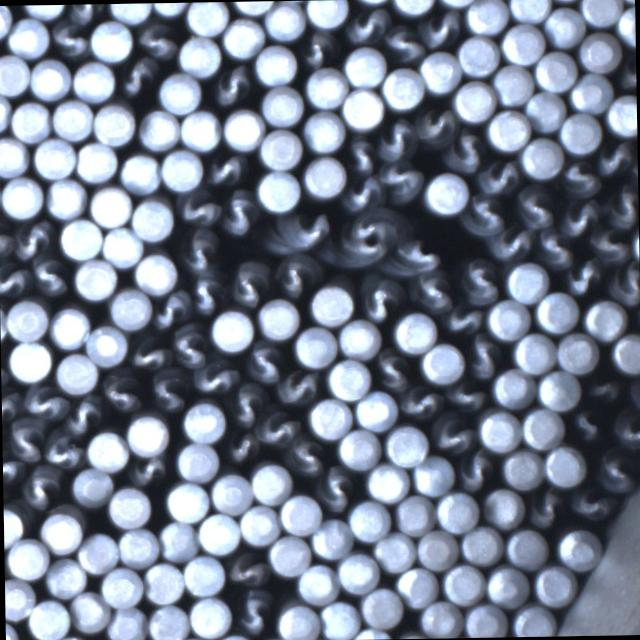tool: (393, 309, 438, 352), (424, 172, 470, 214), (211, 309, 255, 352), (91, 102, 135, 145), (556, 527, 600, 570), (306, 396, 351, 438), (499, 21, 544, 63), (88, 18, 131, 61), (434, 490, 478, 532), (88, 184, 132, 226), (106, 486, 150, 528), (512, 332, 556, 374), (310, 284, 354, 326), (536, 290, 580, 332), (256, 168, 300, 210), (484, 566, 528, 608), (384, 425, 428, 467), (72, 59, 116, 101), (486, 108, 530, 150), (40, 510, 84, 552), (294, 325, 338, 367), (326, 357, 371, 398), (1, 176, 44, 218), (160, 148, 202, 191), (157, 72, 200, 114), (29, 56, 72, 98), (477, 410, 520, 452), (61, 218, 104, 260), (126, 412, 169, 454), (506, 260, 549, 302), (536, 368, 580, 409), (34, 138, 78, 179), (164, 480, 208, 521), (8, 339, 52, 380), (520, 406, 564, 447), (74, 258, 118, 299), (383, 67, 425, 109), (52, 100, 94, 142), (142, 560, 184, 602), (120, 151, 162, 193), (348, 498, 390, 540), (258, 296, 300, 338), (130, 198, 172, 240), (111, 288, 153, 330), (342, 86, 384, 128), (544, 443, 586, 485), (188, 595, 230, 637), (442, 562, 484, 604), (534, 565, 576, 607), (86, 324, 128, 366), (7, 298, 49, 340), (556, 330, 598, 372), (182, 553, 225, 594), (421, 49, 462, 92), (85, 430, 128, 471), (254, 43, 297, 84), (354, 390, 397, 431), (177, 34, 220, 75), (581, 300, 624, 341), (222, 108, 263, 150), (196, 512, 238, 553), (560, 111, 602, 152), (56, 351, 98, 392), (302, 155, 344, 196), (78, 530, 120, 571), (27, 599, 69, 640), (362, 588, 404, 629), (262, 84, 304, 125), (304, 68, 346, 109), (210, 472, 252, 513), (134, 253, 176, 294), (50, 306, 91, 348), (488, 298, 530, 339), (268, 533, 310, 574), (506, 526, 548, 567), (502, 447, 544, 488), (182, 401, 224, 442), (482, 486, 523, 528), (421, 342, 464, 382), (458, 35, 501, 75), (453, 80, 496, 120), (138, 110, 181, 150), (338, 551, 379, 592), (491, 367, 532, 408), (310, 517, 352, 557), (518, 138, 560, 178), (7, 538, 49, 578), (278, 494, 320, 534), (100, 565, 142, 605), (338, 319, 380, 359), (535, 50, 577, 90), (7, 16, 49, 56), (296, 564, 338, 604), (415, 530, 457, 570), (222, 16, 264, 56), (338, 430, 380, 470), (10, 98, 50, 140), (411, 456, 453, 496), (45, 178, 87, 218), (570, 72, 612, 112), (260, 127, 302, 167), (494, 64, 534, 106), (176, 442, 218, 482), (396, 566, 438, 606), (343, 47, 385, 87), (46, 556, 88, 596), (70, 468, 112, 508), (372, 532, 414, 572), (158, 518, 198, 560), (365, 463, 408, 502), (119, 525, 160, 565), (102, 226, 143, 266), (181, 110, 222, 150), (253, 462, 293, 503), (304, 111, 344, 152), (78, 140, 119, 180), (544, 6, 584, 47), (526, 90, 566, 131), (276, 602, 319, 640), (239, 504, 279, 544), (318, 600, 358, 640), (394, 495, 433, 536), (579, 33, 620, 72), (459, 524, 501, 562), (70, 590, 108, 632), (420, 601, 462, 638), (510, 604, 556, 637), (464, 603, 508, 637), (265, 1, 305, 38), (464, 0, 508, 33), (149, 604, 189, 640), (4, 576, 36, 619), (106, 606, 146, 640), (187, 2, 229, 34), (606, 92, 637, 134), (0, 53, 29, 95), (610, 331, 640, 371), (0, 135, 28, 176), (305, 0, 347, 27), (579, 0, 620, 25), (508, 0, 549, 21), (3, 507, 24, 546), (108, 3, 152, 21), (617, 6, 635, 46), (348, 626, 392, 640), (22, 4, 64, 18), (392, 0, 436, 13), (230, 1, 274, 13), (150, 2, 188, 15), (0, 89, 11, 131), (0, 5, 12, 37), (211, 633, 252, 640), (5, 619, 17, 640), (632, 226, 638, 264), (436, 0, 479, 5), (49, 635, 90, 640)
tool_b: (338, 211, 392, 264), (266, 212, 330, 254), (230, 258, 272, 307), (462, 192, 506, 236), (19, 466, 61, 512), (272, 368, 320, 408), (219, 188, 257, 238), (272, 253, 316, 296), (378, 160, 422, 203), (361, 276, 403, 321), (168, 322, 208, 369), (232, 587, 272, 634), (377, 117, 418, 162), (460, 258, 500, 304), (148, 366, 188, 412), (117, 55, 158, 99), (396, 236, 443, 274), (13, 219, 55, 261), (98, 370, 140, 412), (134, 20, 178, 60), (181, 228, 221, 272), (18, 382, 64, 420), (316, 468, 354, 514), (594, 453, 636, 494), (211, 63, 251, 106), (382, 22, 425, 62), (42, 431, 84, 471), (125, 332, 168, 371), (454, 451, 494, 492), (372, 351, 412, 392), (245, 340, 284, 382), (65, 394, 104, 436), (516, 187, 554, 230), (464, 334, 501, 378), (230, 383, 266, 428), (192, 362, 238, 397), (30, 256, 68, 298), (398, 385, 441, 422), (7, 421, 44, 464), (418, 11, 461, 48), (177, 191, 220, 228), (442, 377, 487, 412), (412, 272, 452, 311), (256, 410, 298, 447), (51, 20, 90, 59), (152, 290, 190, 330), (562, 258, 602, 296), (534, 228, 572, 268), (560, 198, 600, 236), (414, 110, 454, 148), (288, 437, 326, 477), (525, 489, 563, 529), (203, 152, 244, 189), (341, 175, 382, 212), (185, 274, 222, 315), (476, 160, 518, 196), (568, 488, 610, 524), (489, 225, 532, 260), (560, 161, 599, 199), (446, 132, 483, 172), (440, 300, 483, 334), (434, 418, 474, 454), (228, 551, 268, 587), (590, 228, 630, 264), (583, 370, 623, 406), (346, 8, 385, 44), (606, 186, 638, 229), (595, 142, 630, 178), (302, 30, 335, 68), (130, 453, 168, 486), (610, 264, 640, 304), (224, 432, 258, 466), (344, 138, 376, 174), (570, 407, 602, 442), (613, 408, 640, 449), (0, 260, 27, 297), (64, 4, 104, 22), (618, 60, 636, 96), (2, 452, 21, 486), (0, 220, 14, 262), (2, 386, 18, 422)
